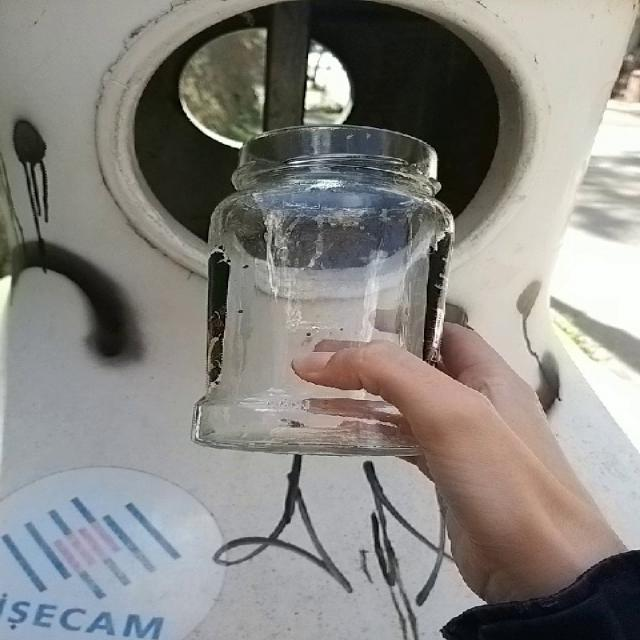glass: (192, 125, 455, 456)
